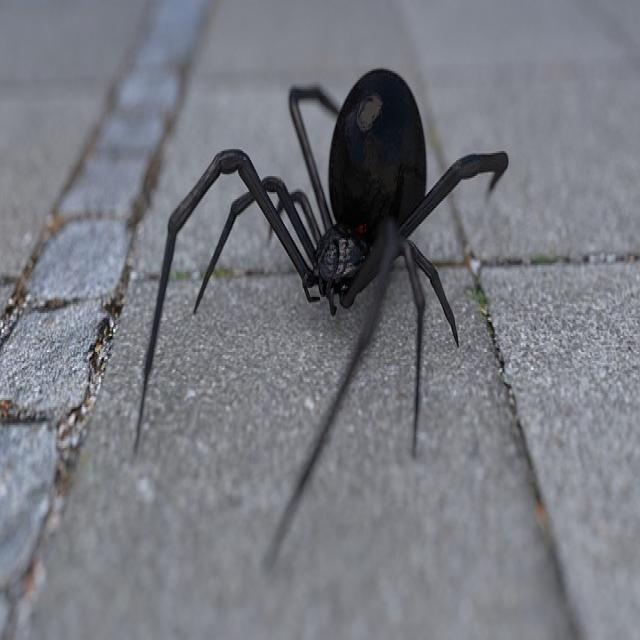spyder: (138, 69, 508, 566)
